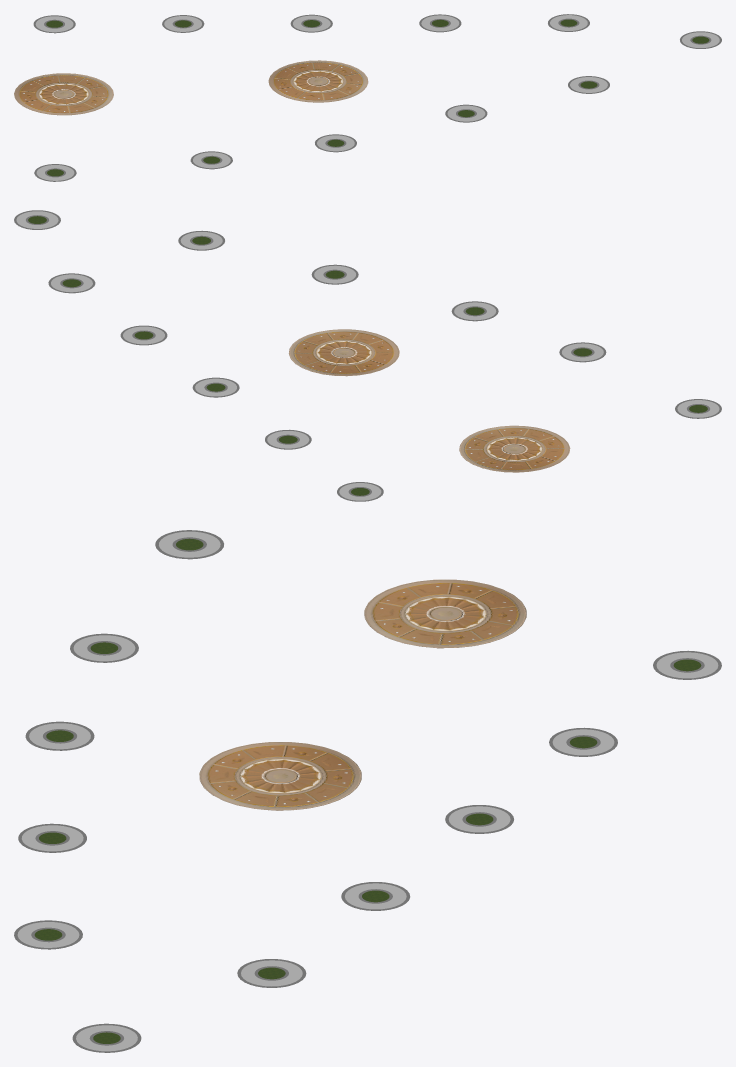
Rendered from xiaoqusheshi3.gltf.
3 views of the same model, one above another, from view 1: azimuth 30°, elevation 25°; view 2: azimuth 150°, elevation 25°; view 3: azimuth 270°, elevation 25° (orthographic). The views are drawn at different scales.
Parts seen in each view (by area): view 1: dx162, dx161, Obj3d66-602692-201-430, Obj3d66-602692-201-432, Obj3d66-602692-201-427, Obj3d66-602692-201-431, Obj3d66-602692-201-428, Obj3d66-602692-201-425, Obj3d66-602692-201-433, Obj3d66-602692-201-426, Obj3d66-602692-201-435, Obj3d66-602692-201-429 (+1 smaller); view 2: dx161, dx162; view 3: dx161, dx162, Obj3d66-602692-201-429, Obj3d66-602692-201-428, Obj3d66-602692-201-427, Obj3d66-602692-201-426, Obj3d66-602692-201-425, Obj3d66-602692-201-431, Obj3d66-602692-201-433, Obj3d66-602692-201-435, Obj3d66-602692-201-432, Obj3d66-602692-201-430 (+1 smaller).
Part boxes in pixels (x1,y1,x2,y2): dx162: (268, 60, 368, 102); dx161: (14, 73, 113, 115); Obj3d66-602692-201-430: (317, 135, 354, 151); Obj3d66-602692-201-432: (193, 152, 230, 168); Obj3d66-602692-201-427: (293, 15, 330, 31); Obj3d66-602692-201-431: (447, 105, 485, 121); Obj3d66-602692-201-428: (421, 15, 459, 31); Obj3d66-602692-201-425: (35, 16, 73, 32); Obj3d66-602692-201-433: (36, 165, 74, 180); Obj3d66-602692-201-426: (164, 16, 201, 31); Obj3d66-602692-201-435: (682, 32, 719, 47); Obj3d66-602692-201-429: (550, 15, 587, 30); dx161: (459, 425, 570, 472); dx162: (288, 329, 399, 376); dx161: (364, 579, 526, 648); dx162: (199, 742, 361, 810); Obj3d66-602692-201-429: (241, 960, 302, 986); Obj3d66-602692-201-428: (345, 883, 406, 909); Obj3d66-602692-201-427: (448, 806, 510, 832); Obj3d66-602692-201-426: (552, 729, 614, 755); Obj3d66-602692-201-425: (656, 652, 718, 678); Obj3d66-602692-201-431: (21, 825, 83, 851); Obj3d66-602692-201-433: (159, 531, 220, 557); Obj3d66-602692-201-435: (76, 1025, 137, 1051); Obj3d66-602692-201-432: (73, 635, 135, 661); Obj3d66-602692-201-430: (29, 723, 90, 749).
Size of the model in its own units: 1942 by 0.1 by 1112.
35 materials, 13 textured.
